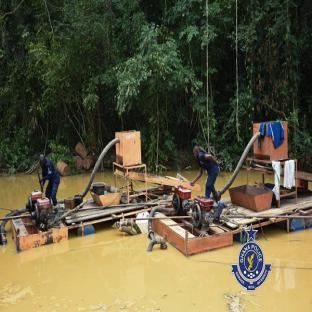ProcessingEquipment: (150, 108, 312, 256), (2, 127, 187, 254)
